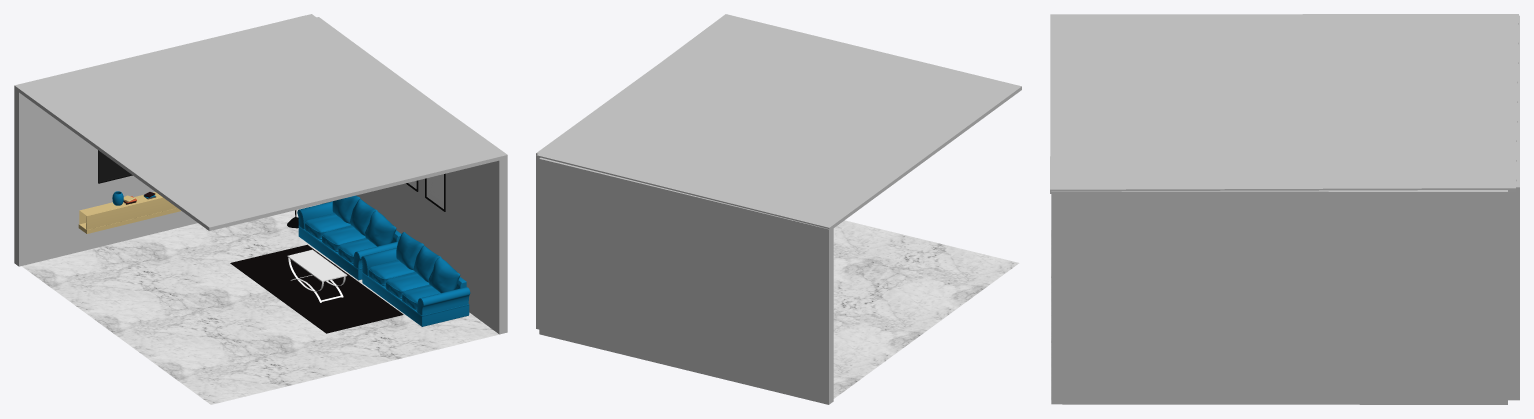
File: livingroom1.glb
The picture shows the model from 3 angles, left to right: view 1: azimuth 30°, elevation 25°; view 2: azimuth 150°, elevation 25°; view 3: azimuth 270°, elevation 25°; orthographic projection. The views are drawn at different scales.
Visible parts, largest first — view 1: polySurface6.004, polySurfaceMain, polySurface6.003, polySurface6.001, Box1058, polySurface6.005, Box1057, polySurface146.001, polySurface164, polySurface31.002, polySurface157.001, polySurface165 (+1 smaller); view 2: polySurface6.004, polySurface6.003, polySurfaceMain, polySurface6.001; view 3: polySurface6.001, polySurface6.004, polySurface6.003.
Boxes of the visible parts, box(x1,y1,x2,y2) form: polySurface6.004: box(14, 14, 507, 230); polySurfaceMain: box(21, 204, 499, 404); polySurface6.003: box(14, 15, 305, 266); polySurface6.001: box(317, 17, 507, 334); Box1058: box(361, 232, 470, 326); polySurface6.005: box(230, 244, 403, 333); Box1057: box(297, 195, 401, 280); polySurface146.001: box(287, 249, 347, 302); polySurface164: box(86, 197, 176, 229); polySurface31.002: box(425, 173, 445, 211); polySurface157.001: box(98, 150, 132, 183); polySurface165: box(78, 208, 180, 233); polySurface6.004: box(536, 14, 1021, 231); polySurface6.003: box(539, 157, 833, 404); polySurfaceMain: box(833, 220, 1019, 398); polySurface6.001: box(536, 69, 651, 329); polySurface6.001: box(1051, 190, 1507, 404); polySurface6.004: box(1050, 14, 1518, 193); polySurface6.003: box(1508, 15, 1519, 400).
Size of the model in its own units: 1.46 by 0.8283 by 1.64.
13 materials, 1 textured.
